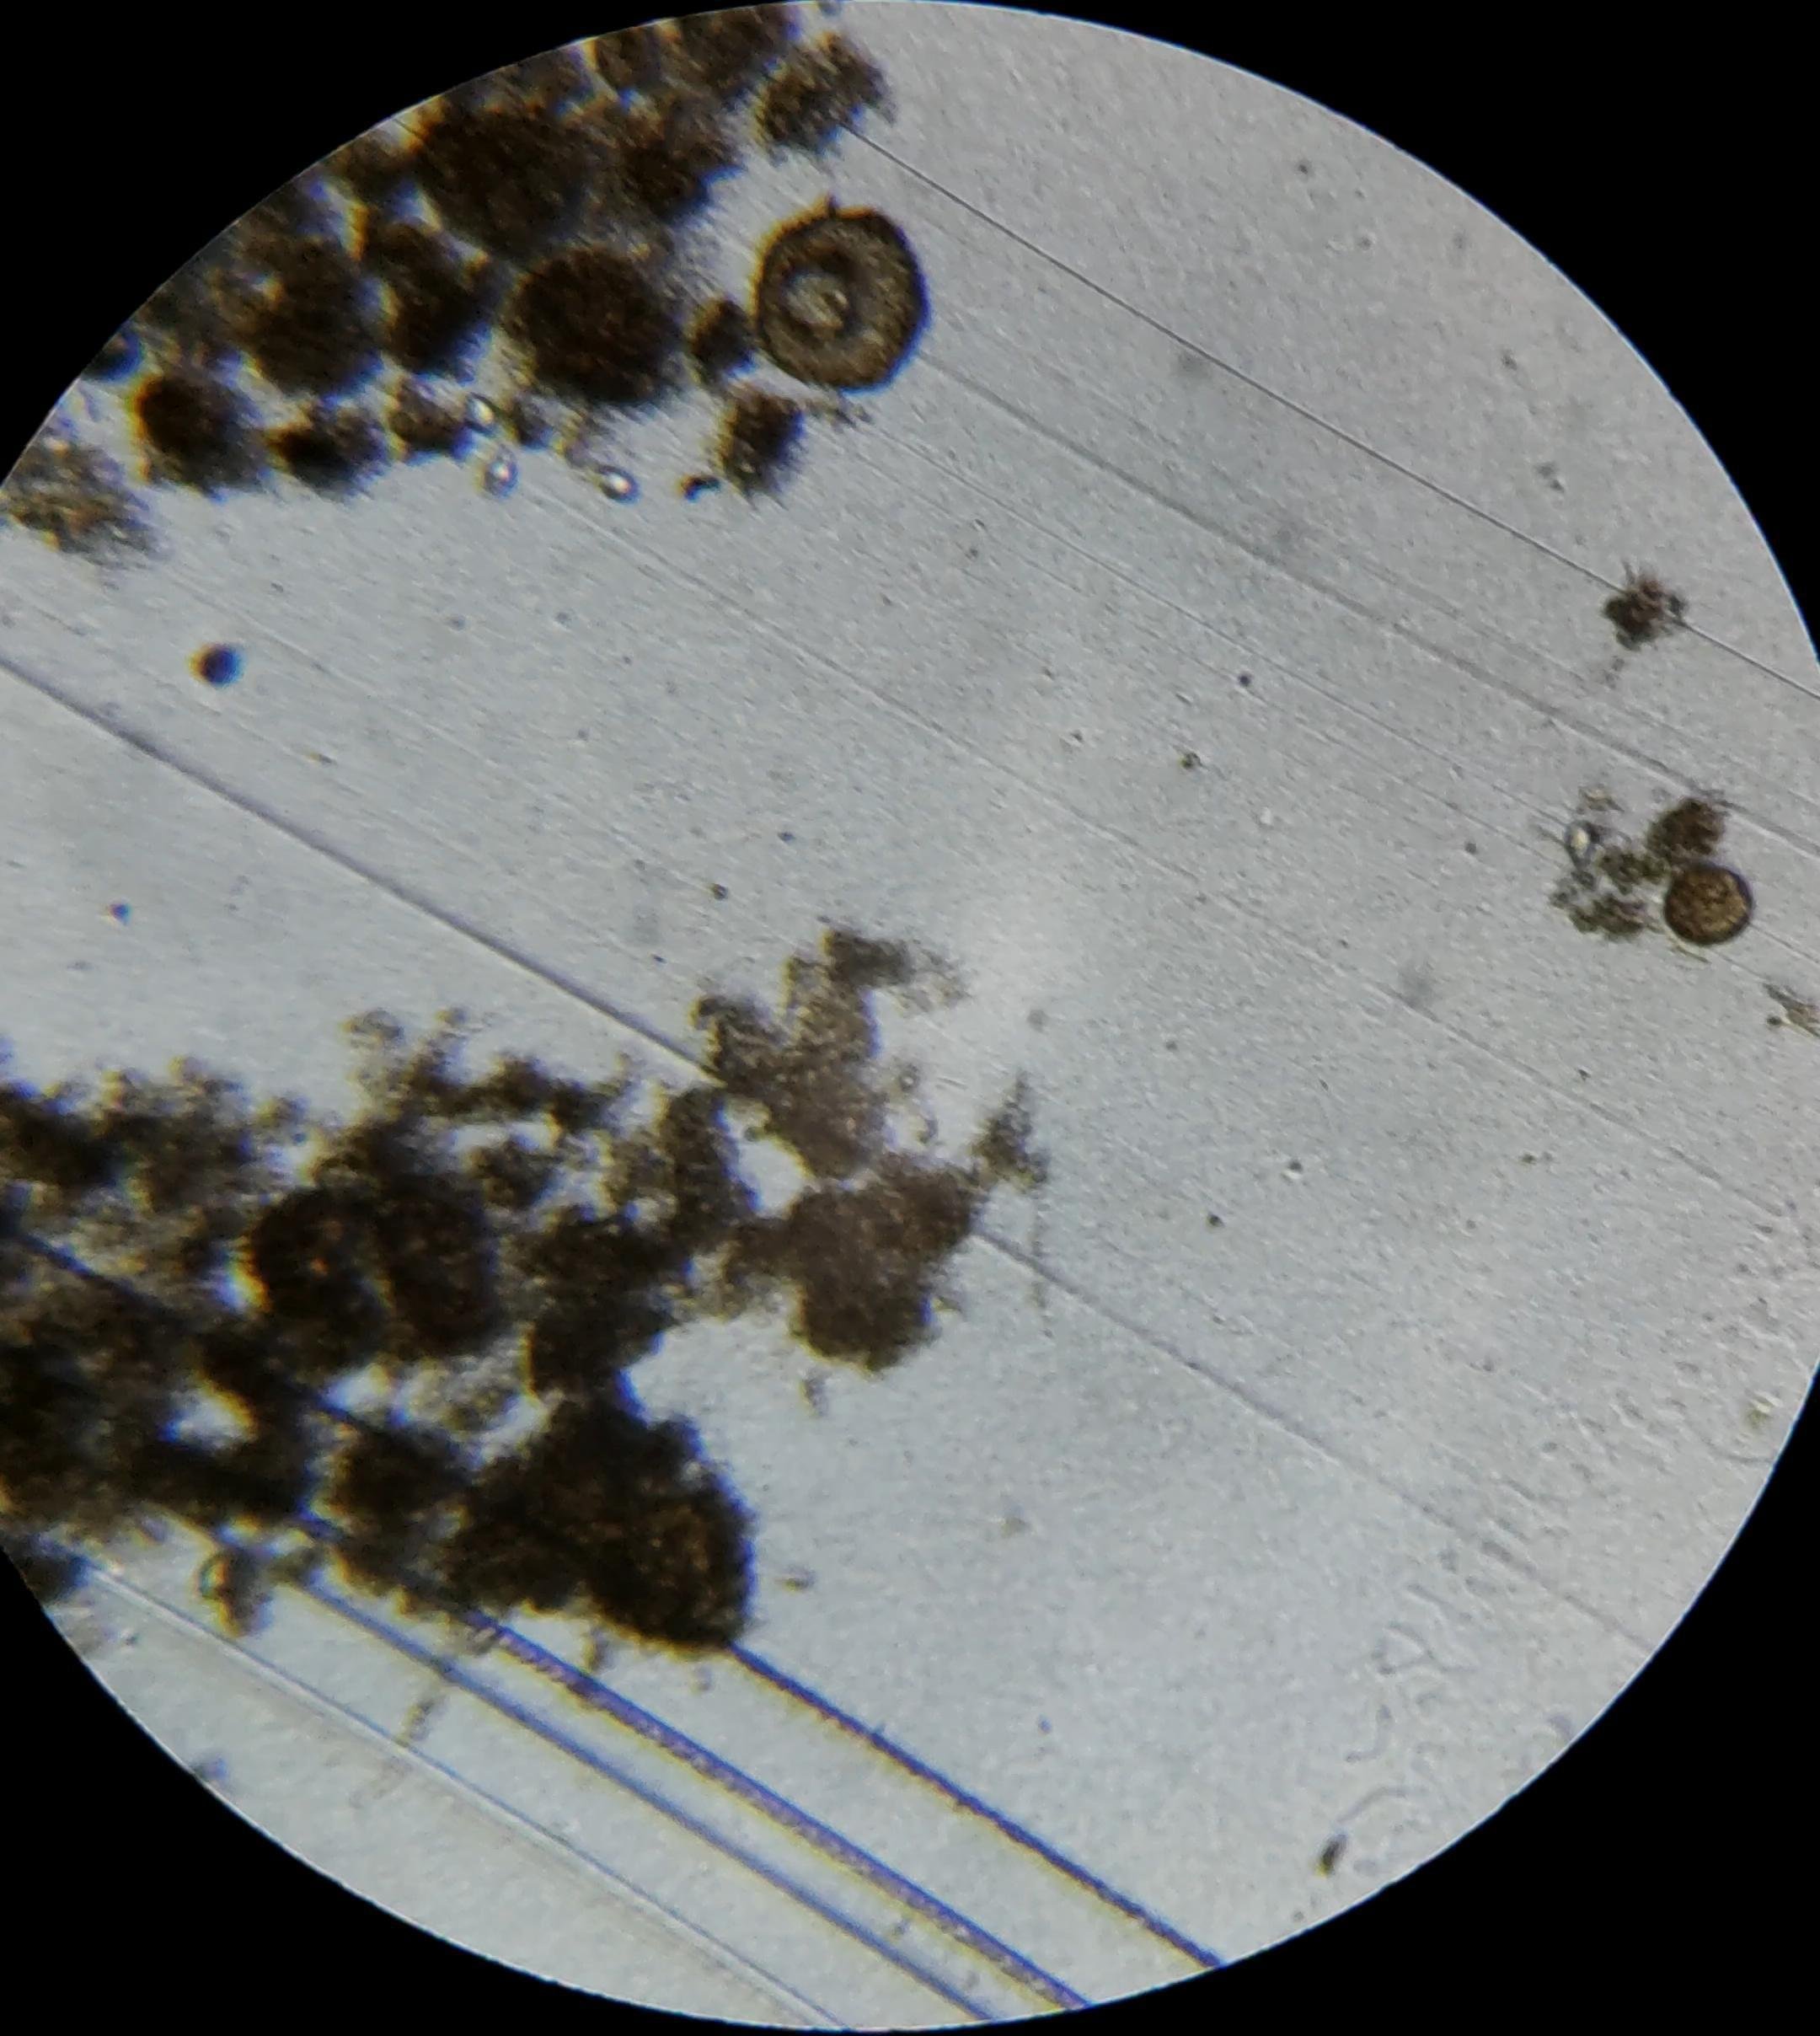Arcella: (759, 216, 917, 388)
